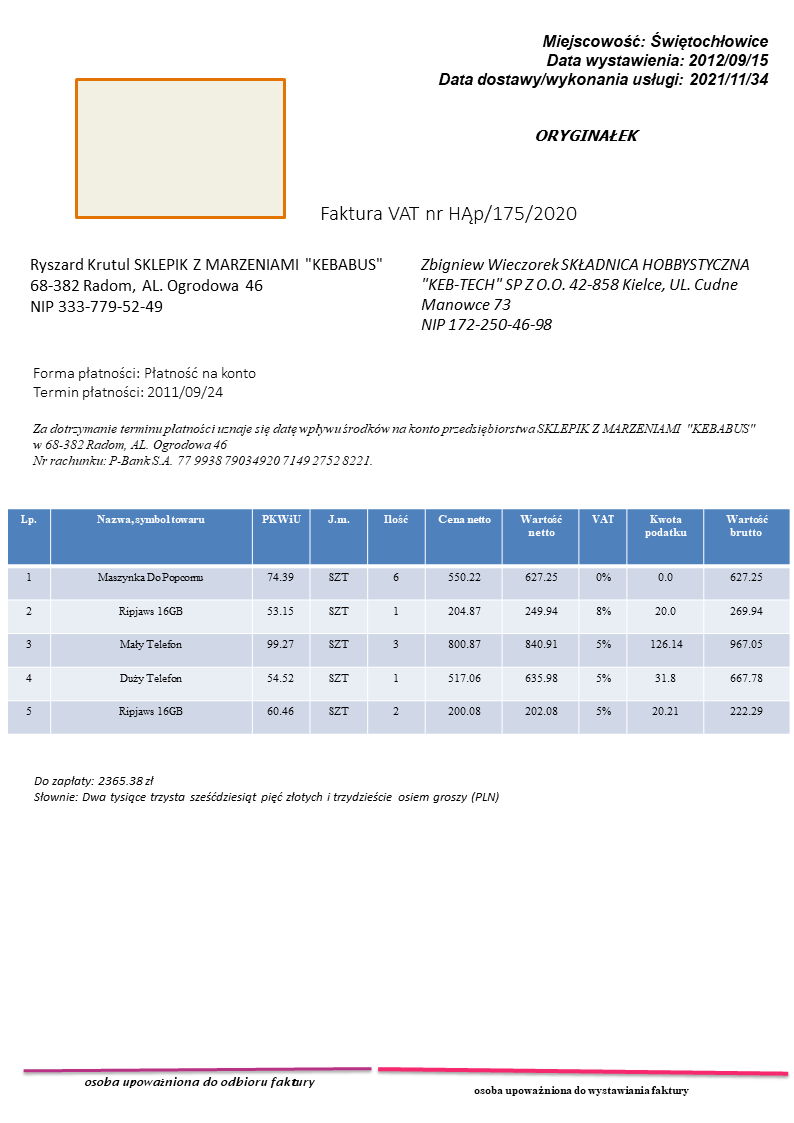Table: (5, 508, 789, 736)
TextBox: (29, 421, 760, 471), (417, 255, 755, 334), (26, 254, 389, 316), (431, 27, 773, 92), (30, 770, 503, 809), (30, 364, 259, 403), (317, 199, 578, 228), (82, 1072, 316, 1092), (471, 1082, 690, 1100), (532, 124, 641, 148)
